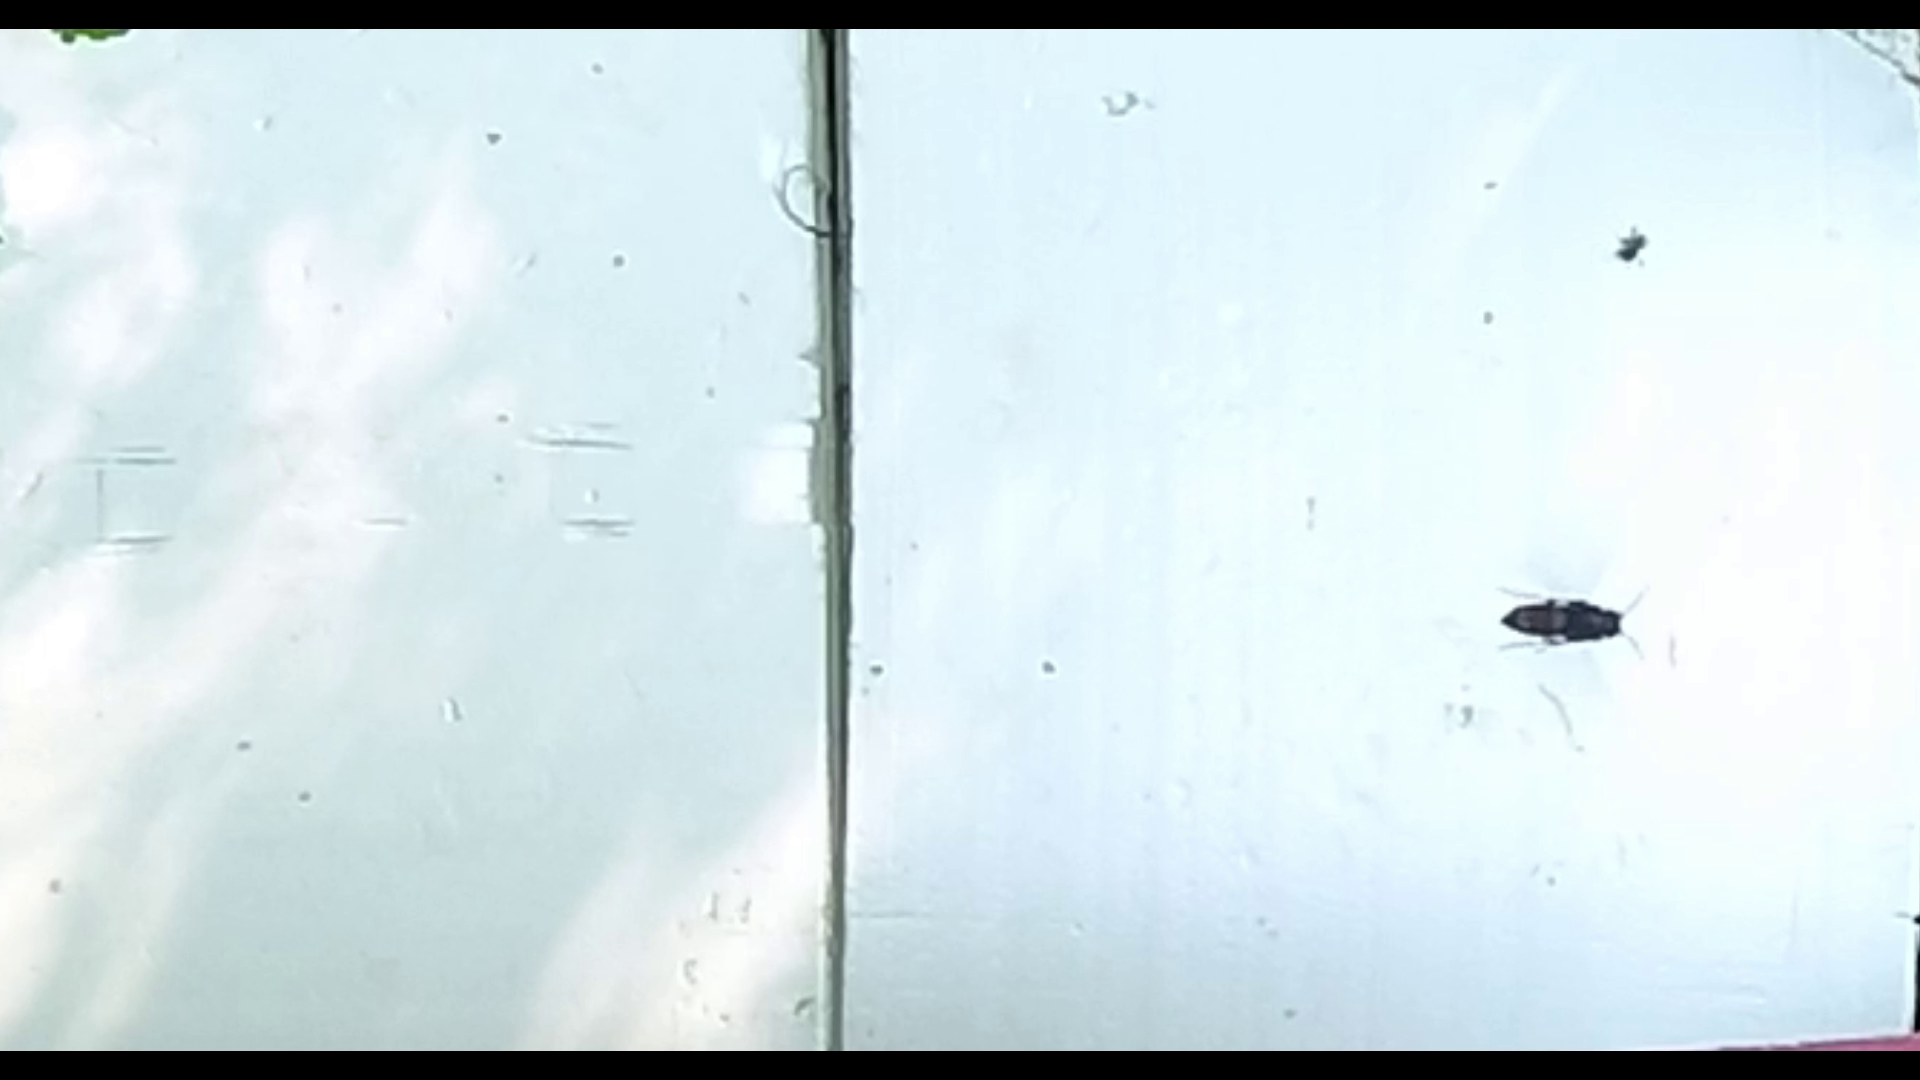Asian_hornets: (1484, 559, 1655, 680)
